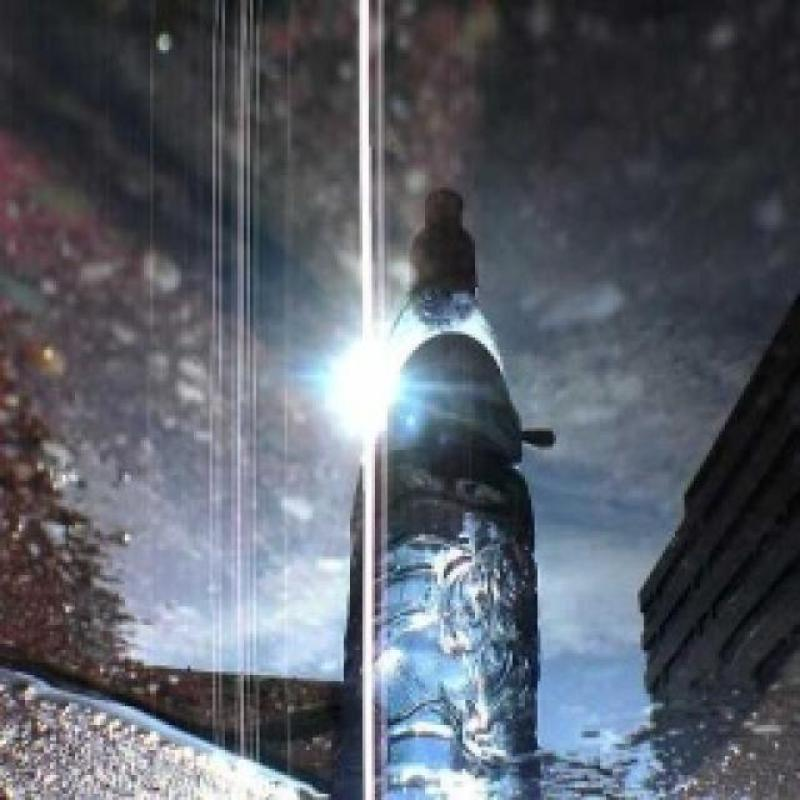botella: (345, 190, 543, 800)
